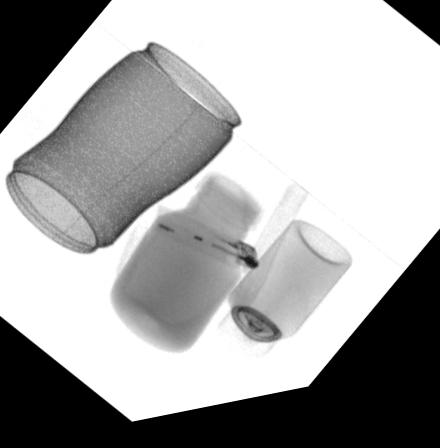Lighter: (150, 211, 258, 282)
Sprayer: (216, 231, 353, 368)
